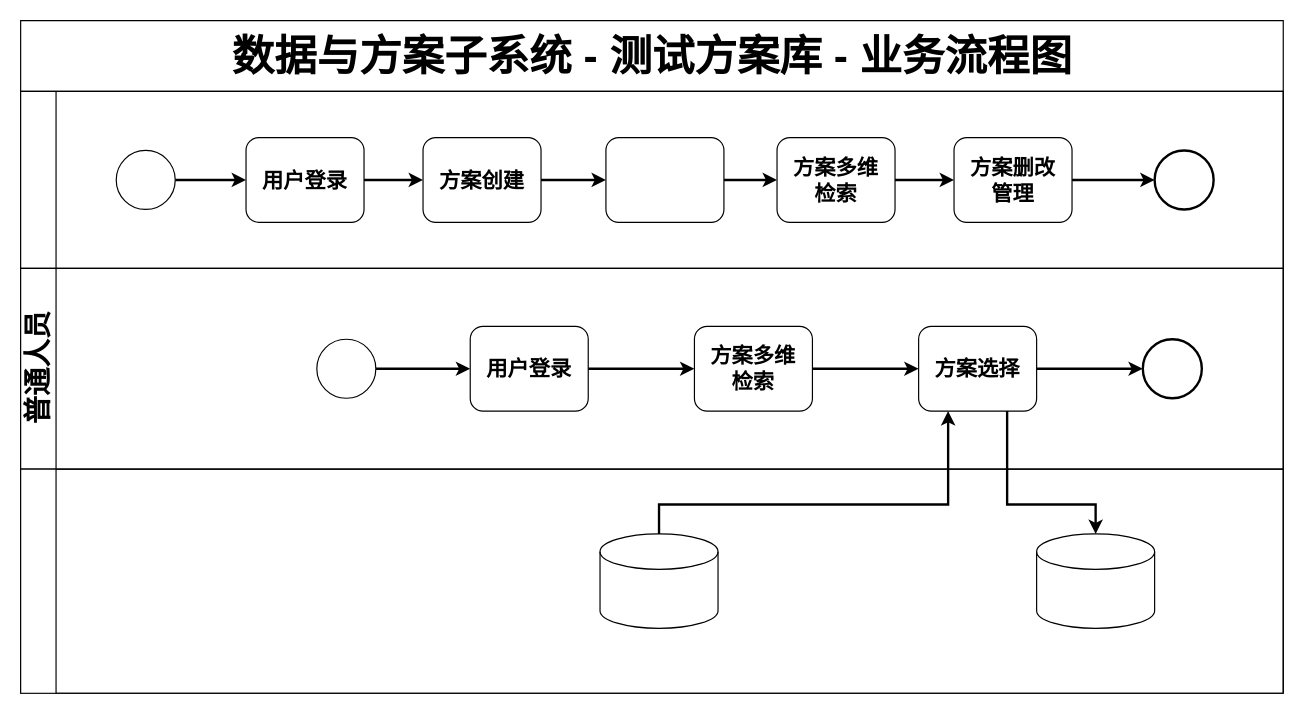
Some shapes in this 1304 by 714 pixel diagram are drawn without their labels. Each missing label, with the box of its shape:
方案元信息 编辑: (605, 136, 724, 222)
测试方案库: (599, 533, 718, 628)
测试方案模块: (19, 468, 1283, 693)
用户方案库: (1035, 533, 1155, 628)
系统管理员: (19, 90, 1283, 268)
